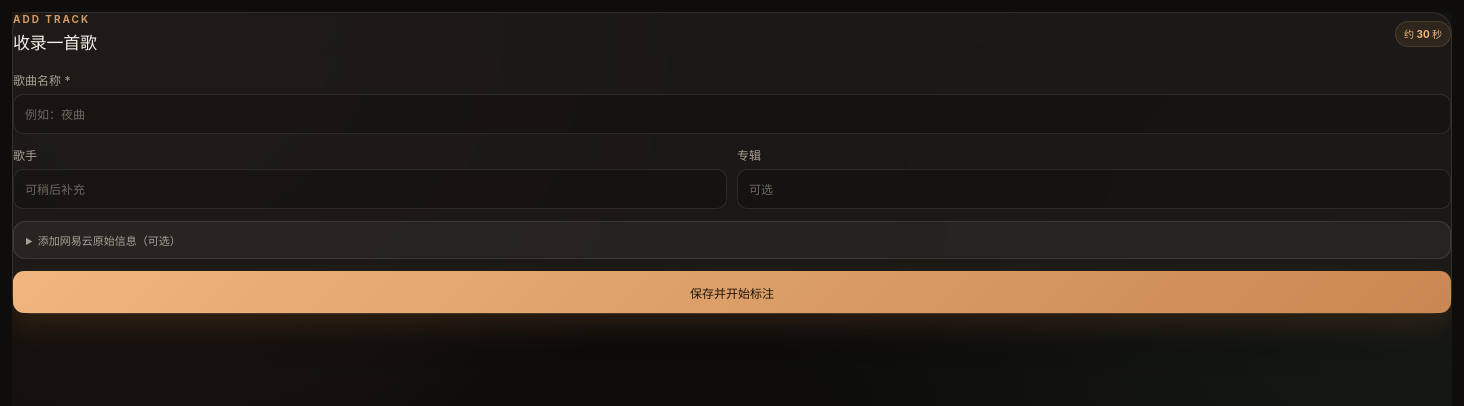
TrackCreateForm › keeps user input and shows feedback when saving fails
Type "不会丢失的输入" into the field with test id "track-title-input" at (732, 114), box [13,94,1451,134]
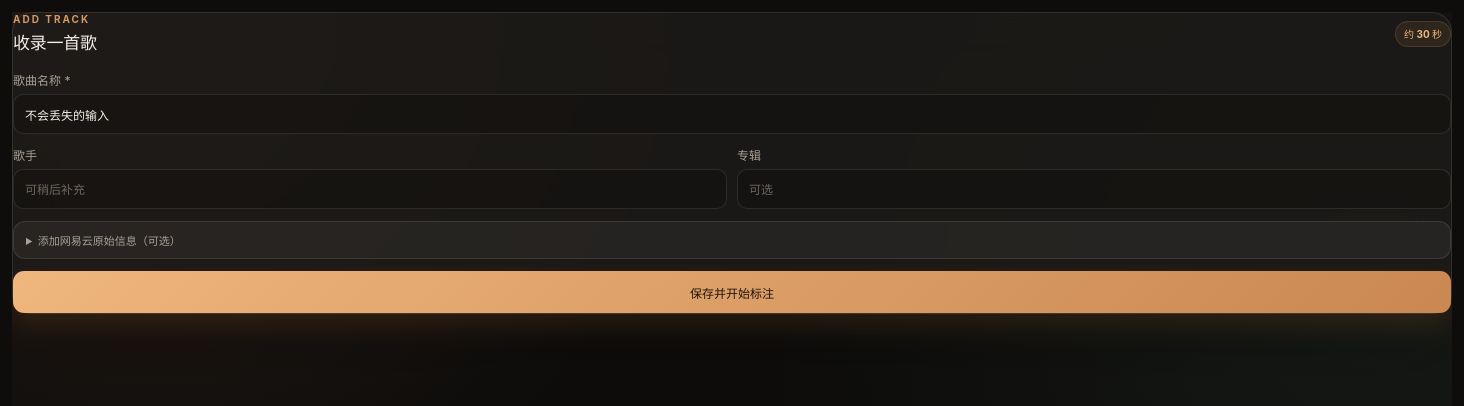
Submit the form with test id "track-create-form", box [13,71,1451,313]
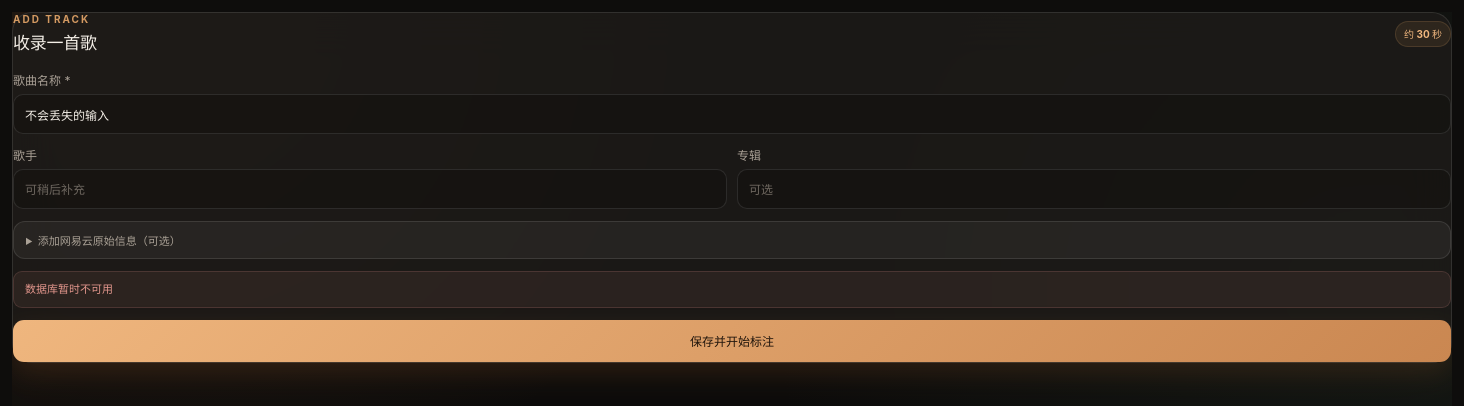
Expected: the text "数据库暂时不可用" is shown, [13,271,1451,308]
